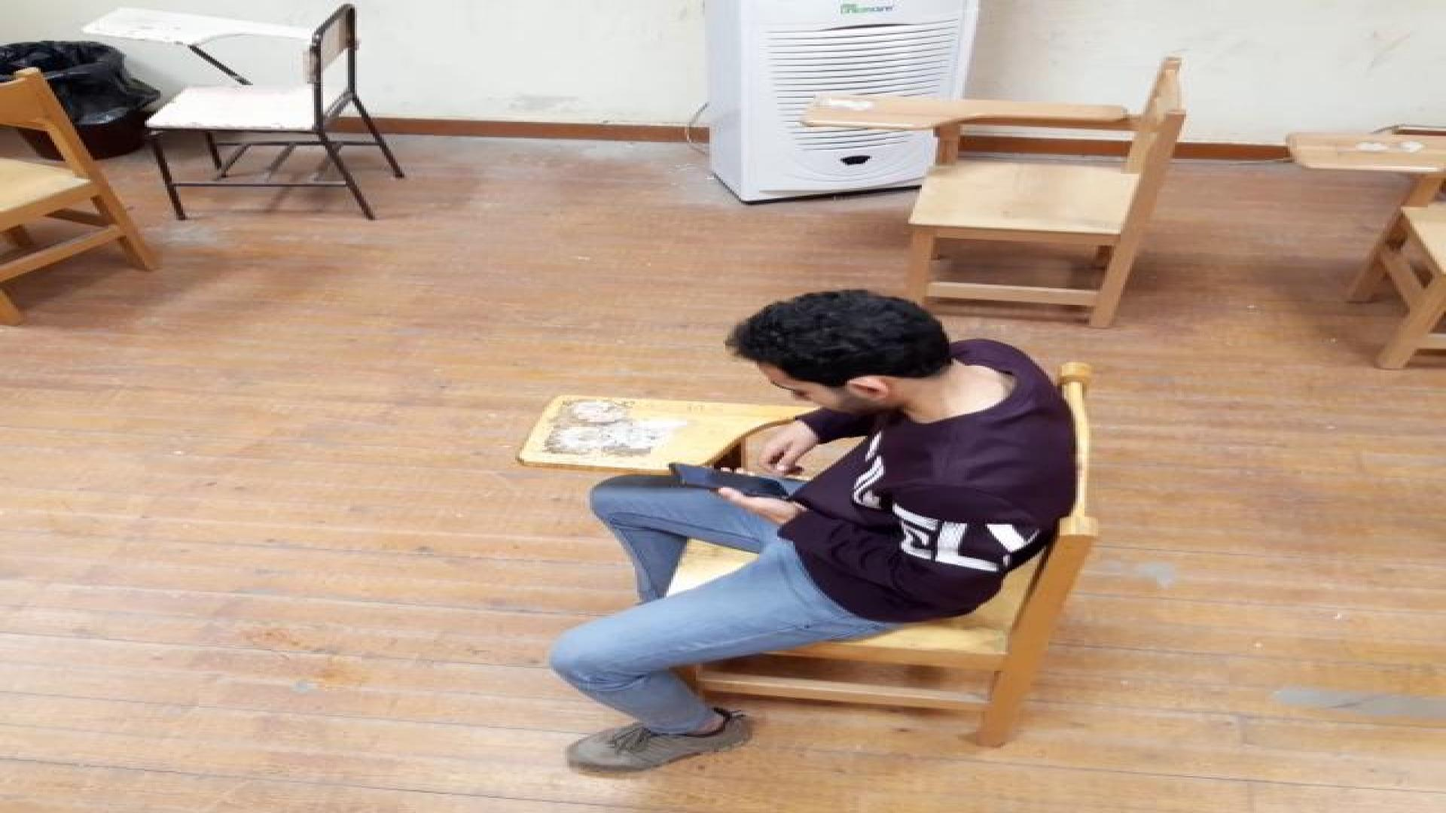phone: (669, 461, 795, 499)
